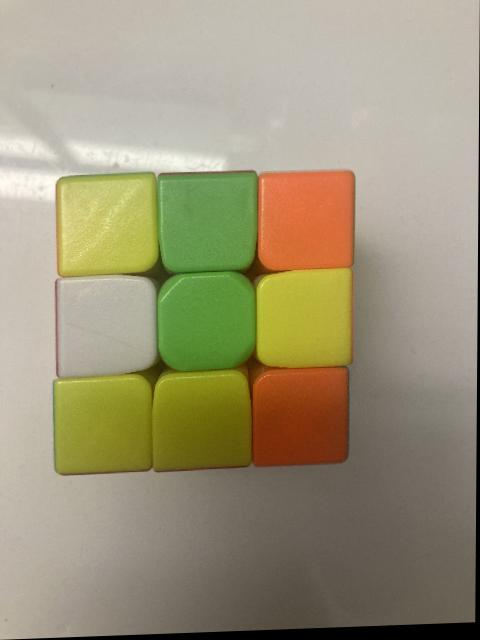Green: (161, 276, 255, 374), (161, 177, 254, 271)
Orange: (252, 374, 347, 469), (262, 178, 353, 270)
White: (55, 278, 155, 377)
Yellow: (60, 184, 157, 276), (54, 384, 151, 476), (262, 274, 352, 370), (158, 383, 247, 465)
